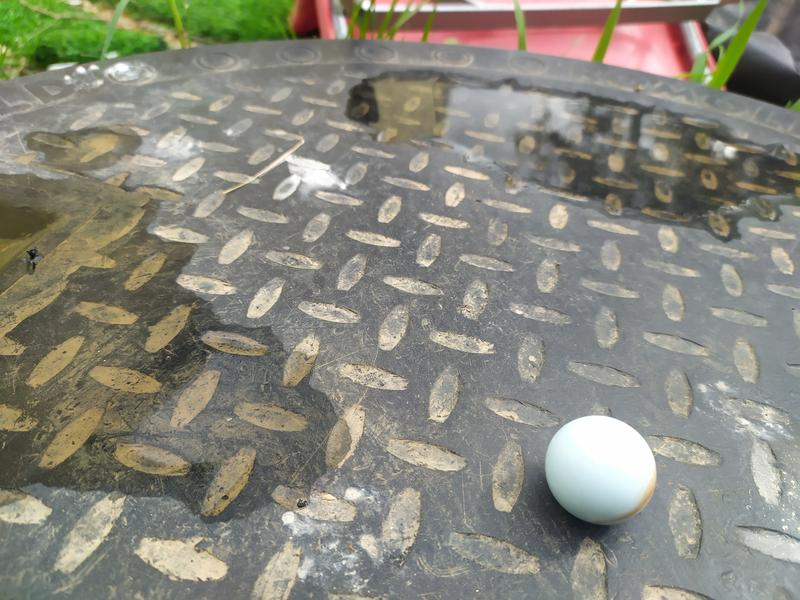Warning: (542, 413, 660, 528)
